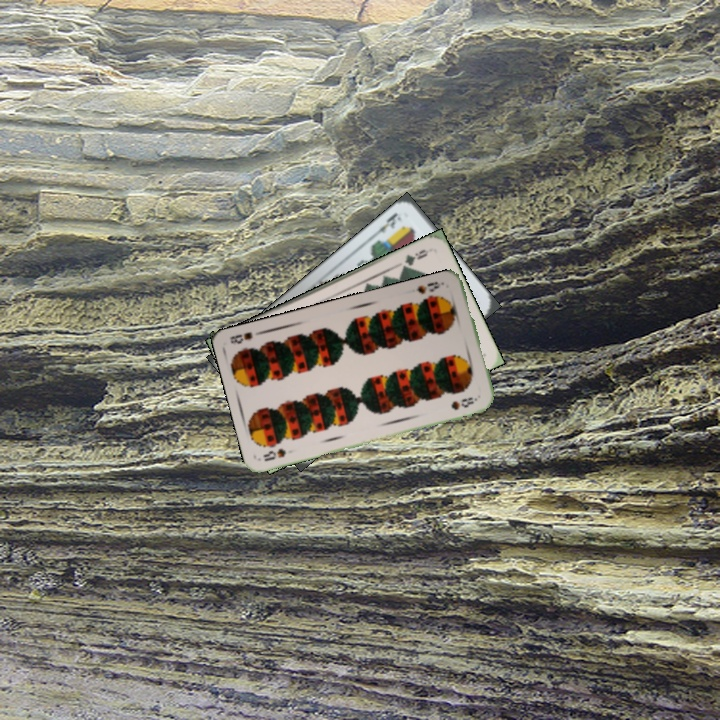EK: (369, 209, 404, 239)
G9: (398, 245, 431, 272)
S8: (412, 277, 447, 297), (259, 444, 288, 464)
